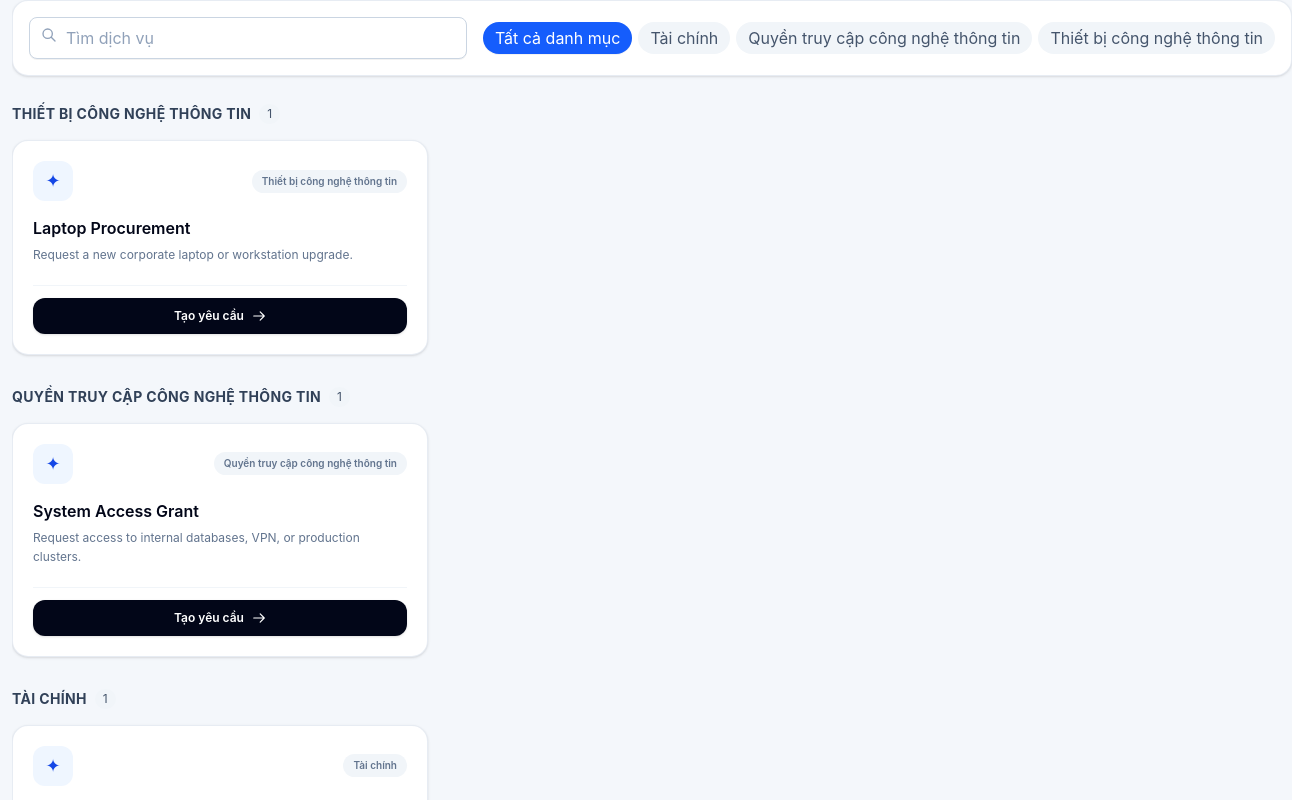
Test: CatalogGrid Component › filters items by category pill selection
The width and height of the screenshot is (1292, 800).
Click the button with test id "category-filter-finance" at (684,38), box [638,22,730,54]
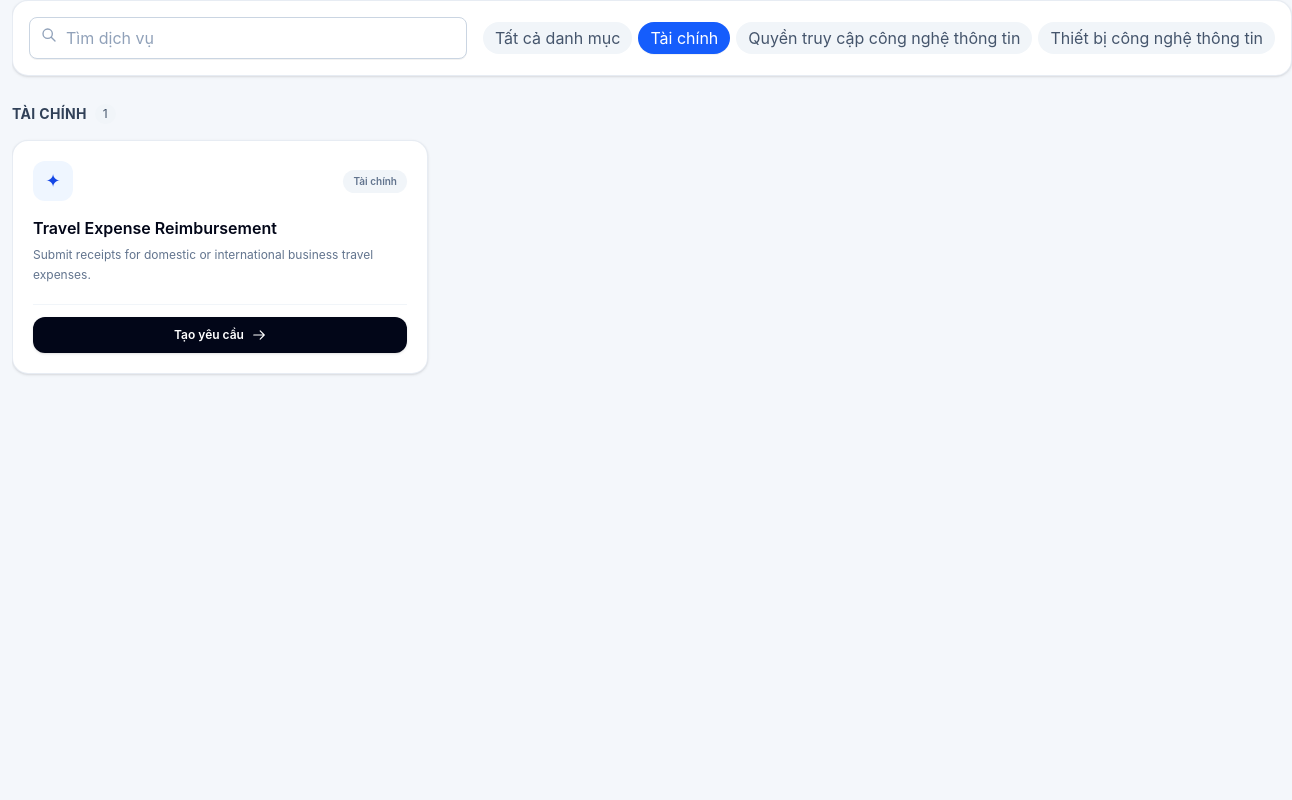
Expected: the heading "Travel Expense Reimbursement" is shown, [33,218,277,238]
Now the heading "Laptop Procurement" is gone
